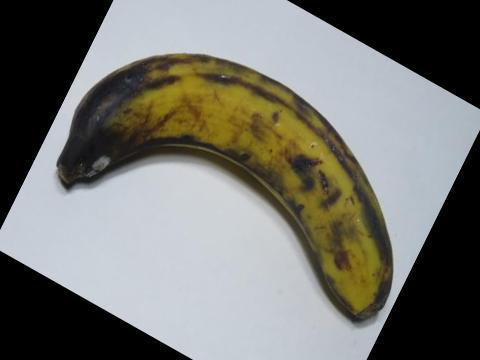overripe: (40, 36, 395, 320)
rotten: (45, 62, 169, 182)
